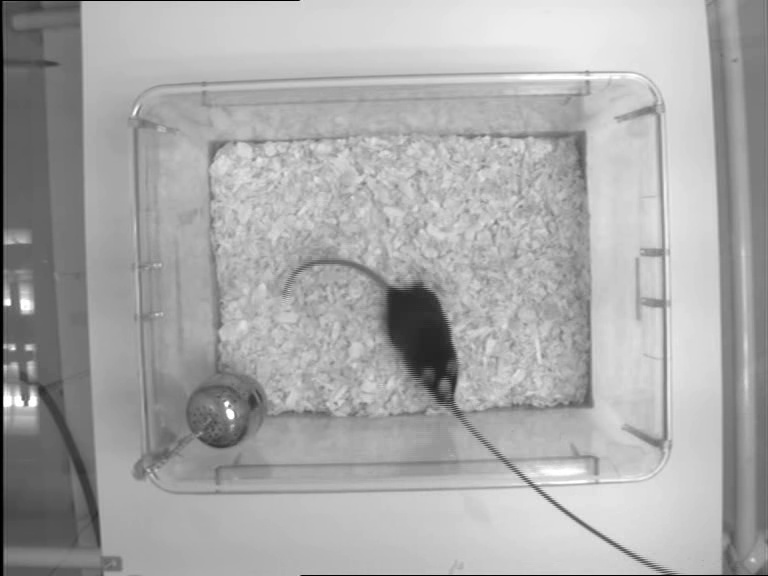mice: (283, 258, 462, 407)
